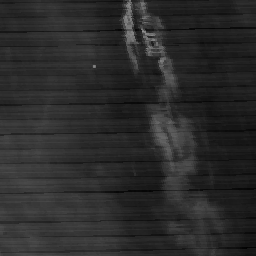Target: (90, 62, 96, 68)
